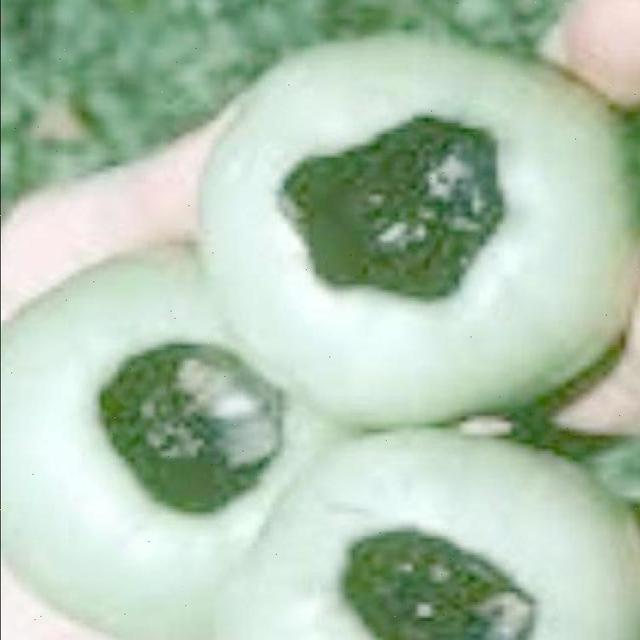Blossom End Rot Fruit: (126, 73, 294, 390)
